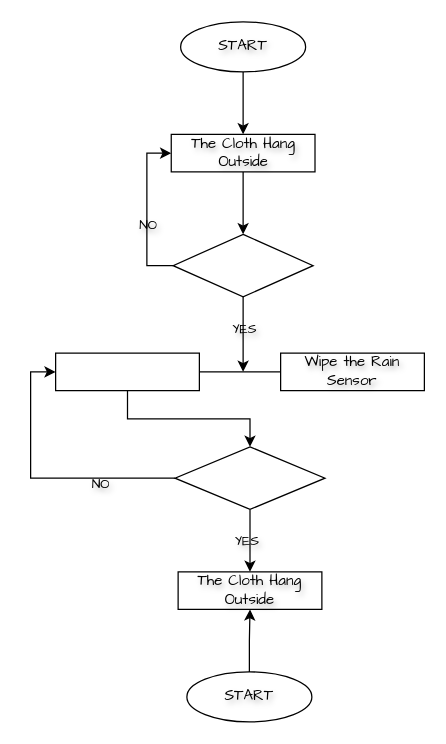
Image size: 446x744. Some labels were removed from this diagram. Each missing label, with the centre of its shape:
"Light Detected ?" goes at (x=249, y=477).
"Rain Detected ?" goes at (x=242, y=265).
"The Cloth Move inside" goes at (x=126, y=371).
